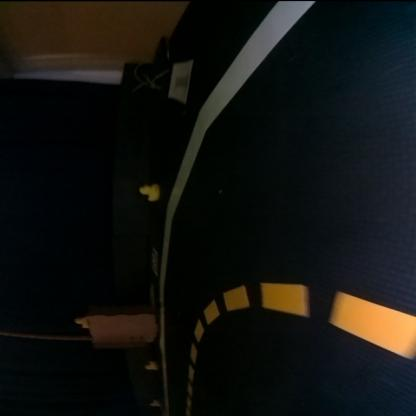Duckie: (138, 184, 158, 202), (74, 316, 86, 328), (144, 361, 156, 370), (150, 400, 158, 406)
QR code: (150, 248, 158, 276)
